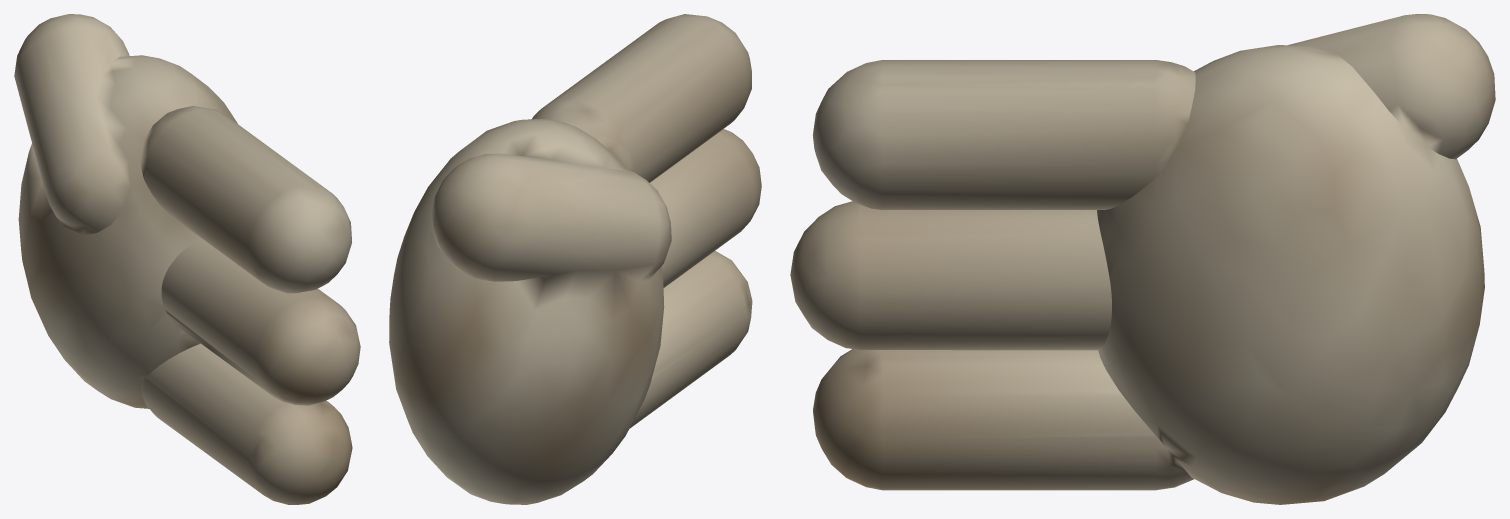
File: amanita-scout-hand0.glb
The picture shows the model from 3 angles, left to right: view 1: azimuth 30°, elevation 25°; view 2: azimuth 150°, elevation 25°; view 3: azimuth 270°, elevation 25°; orthographic projection. The views are drawn at different scales.
Parts seen in each view (by area): view 1: body; view 2: body; view 3: body.
Part boxes in pixels (<box>): body: <box>14,14,360,504</box>; body: <box>389,14,761,504</box>; body: <box>790,14,1495,504</box>.
Size of the model in its own units: 0.1454 by 0.2303 by 0.3195.
